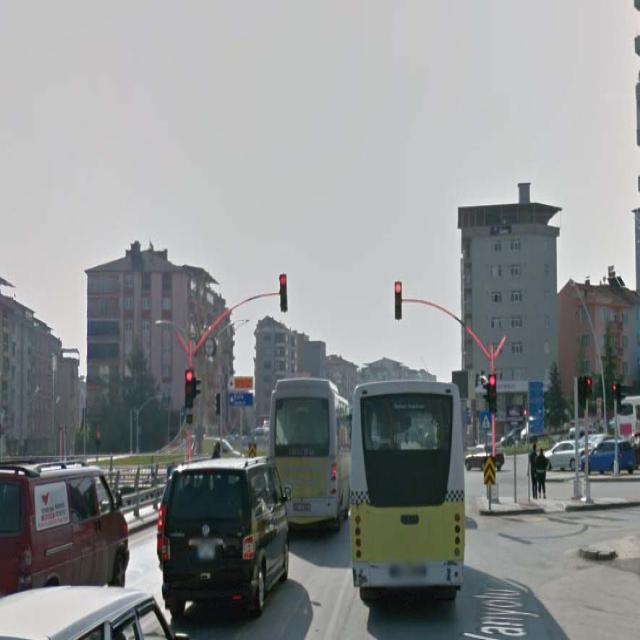kirmizi: (185, 368, 195, 406), (489, 374, 497, 411), (395, 282, 401, 316), (280, 275, 286, 306)
